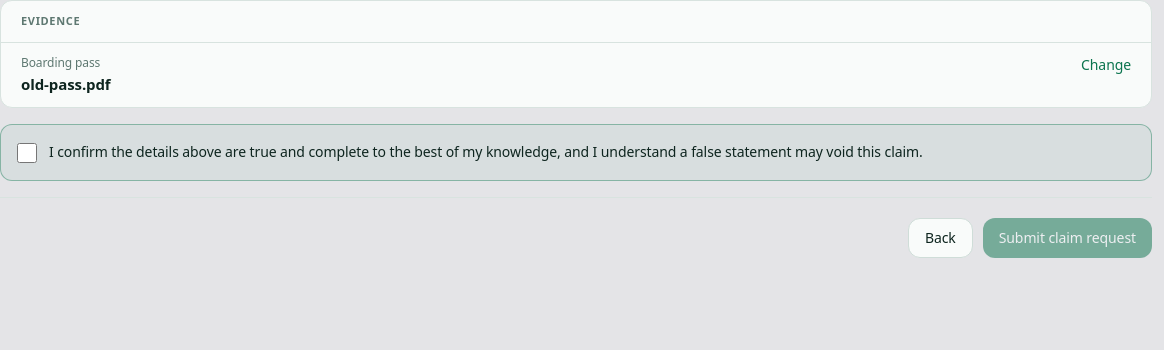
ReviewStage — replacing a document › offers no Save on a document row, because choosing the file is the save
What coordinates should you click on to do the following:
click the button "Change"
I would click on:
 (1106, 64)
Its box is [1081, 54, 1131, 74].
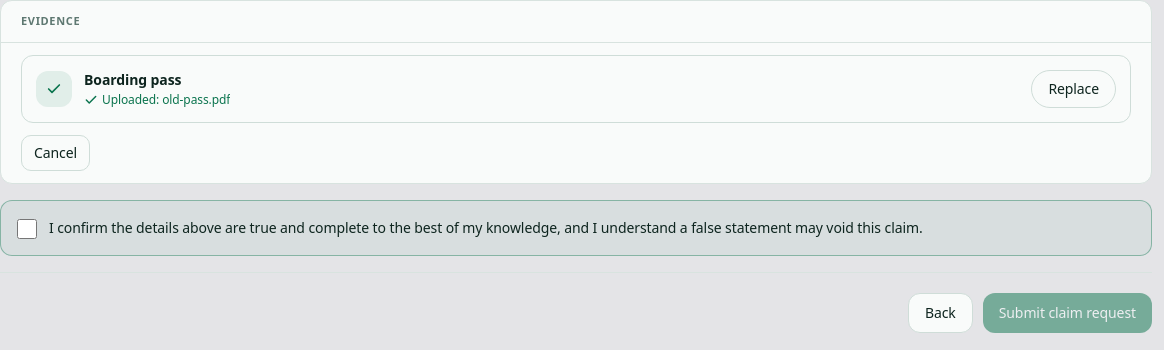
Now the button "Cancel" is shown, box [21, 134, 90, 170]
